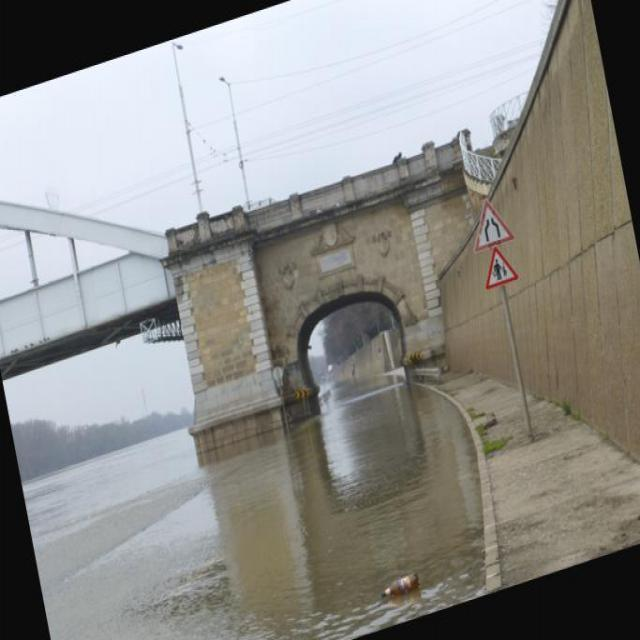flood: (16, 313, 509, 639)
